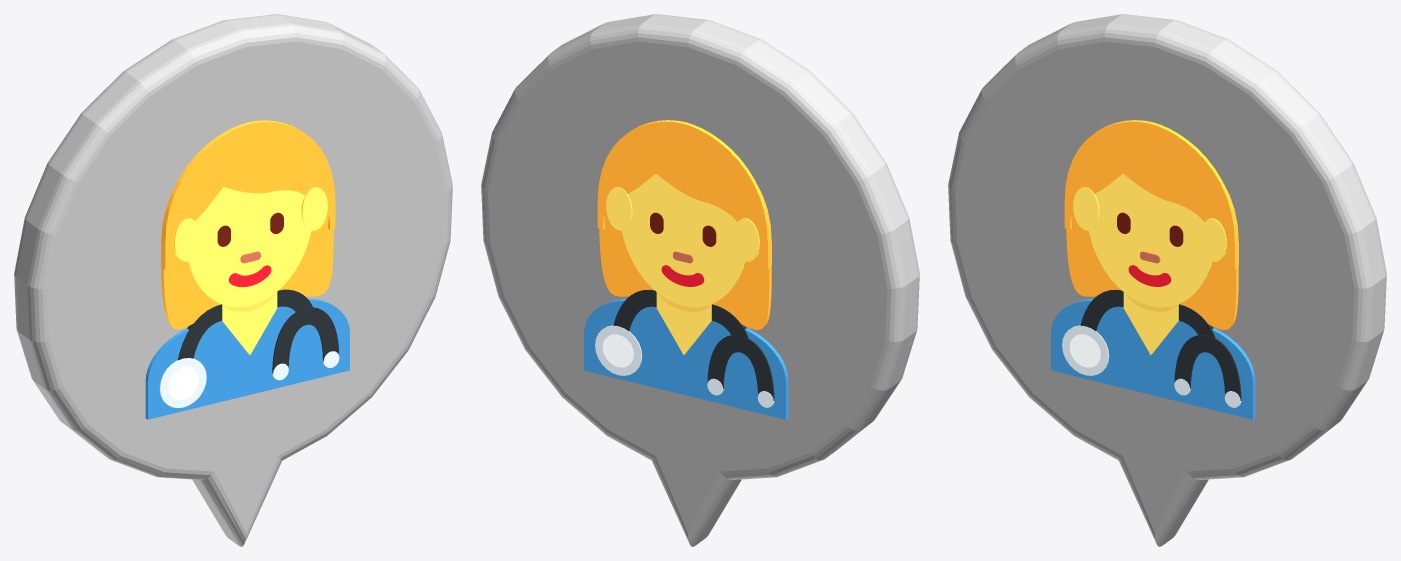
File: woman_health_worker.glb
3 views of the same model, side by side, from view 1: azimuth 30°, elevation 25°; view 2: azimuth 150°, elevation 25°; view 3: azimuth 330°, elevation 25° (orthographic).
Parts seen in each view (by area): view 1: EmotionBubble; view 2: EmotionBubble; view 3: EmotionBubble.
Part boxes in pixels (x1=…): EmotionBubble: x1=14, y1=14, x2=452, y2=546; EmotionBubble: x1=481, y1=14, x2=919, y2=546; EmotionBubble: x1=948, y1=14, x2=1386, y2=546.
Bounding box in the file's own units: 5.29 × 6.16 × 0.778.
